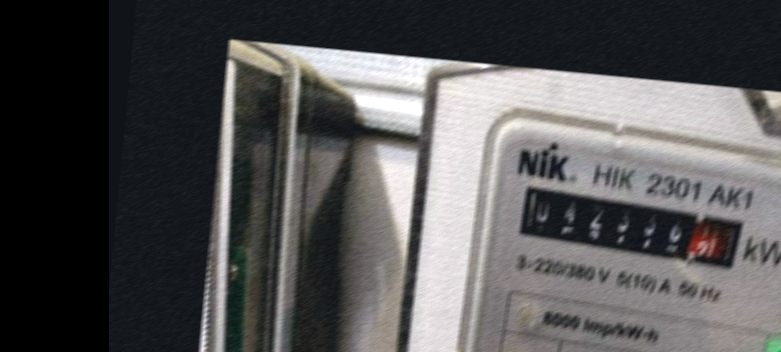0: (535, 196, 551, 226)
2: (587, 203, 607, 232)
3: (613, 206, 632, 236), (642, 210, 659, 239)
4: (561, 200, 579, 228)
6: (667, 218, 684, 246)
screen: (507, 177, 753, 280)
